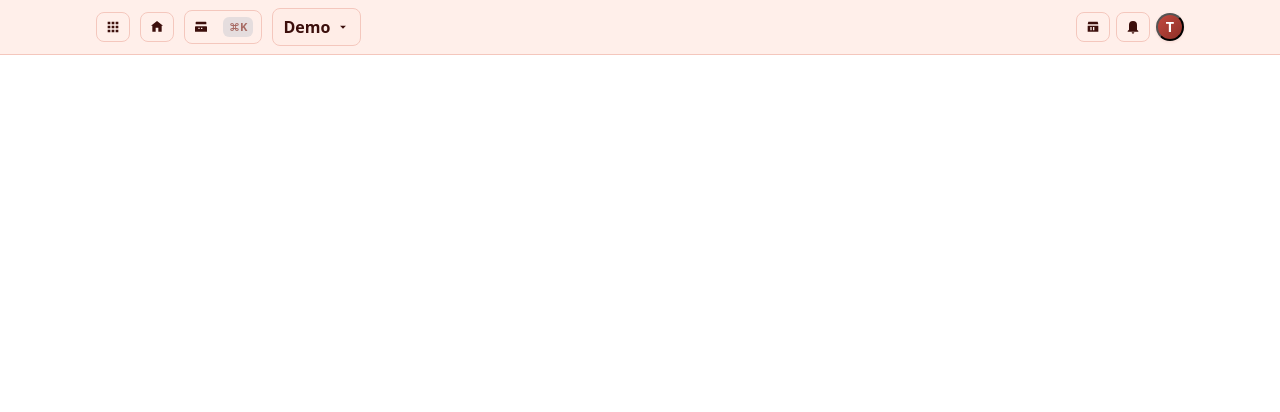
it: waffle opens a left-aligned waffle and notifications are right-aligned
The width and height of the screenshot is (1280, 412).
Note: Open the app launcher (waffle)
Click the button titled "App launcher" at x=113, y=27, box [96,12,130,42]
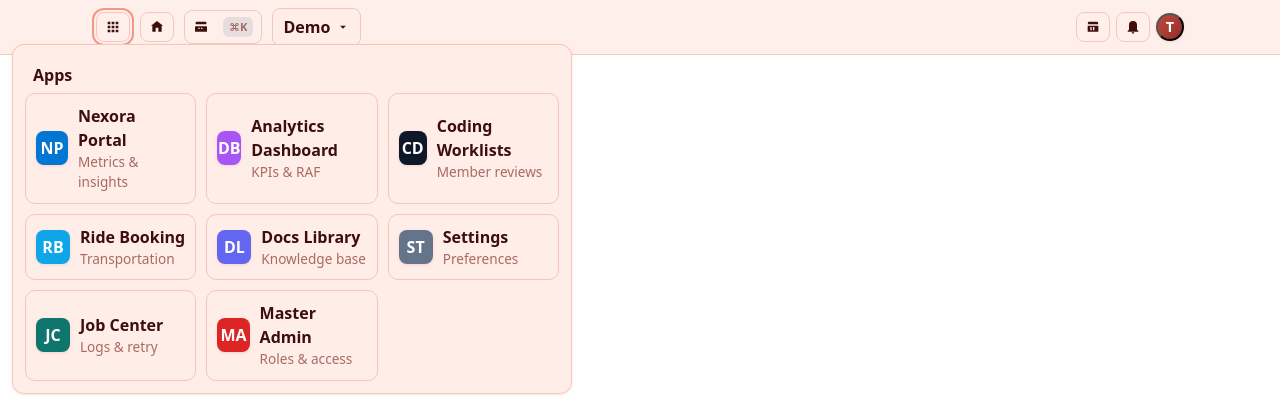
Result: the element with class "sfdc-waffle" is shown at [12,44,572,394]
Result: the text "Apps" is shown at [33,64,72,86]
Click the button titled "Notifications" at x=1133, y=27, box [1116,12,1150,42]
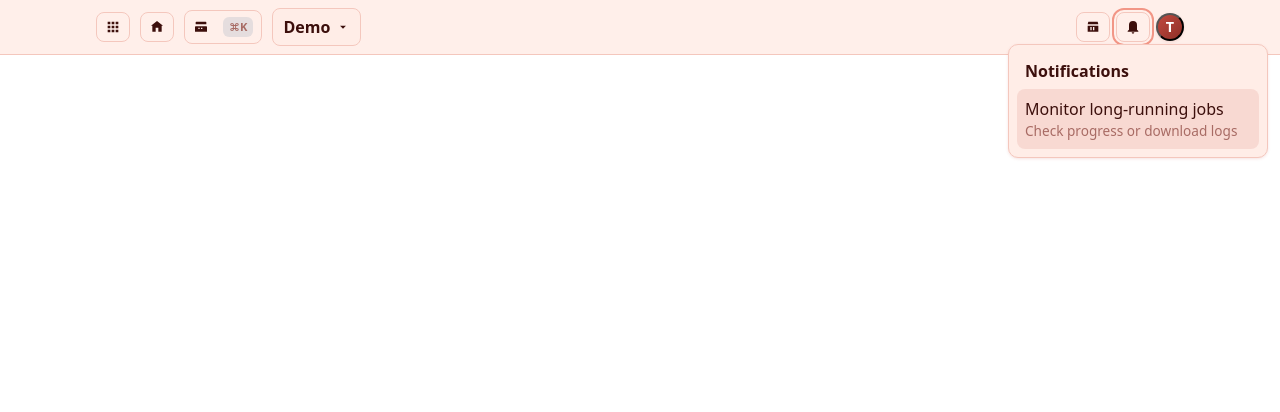
Result: the element with class "sfdc-dropdown--right" is shown at [1008,44,1268,158]
Result: the text "Notifications" is shown at [1025,60,1129,82]
